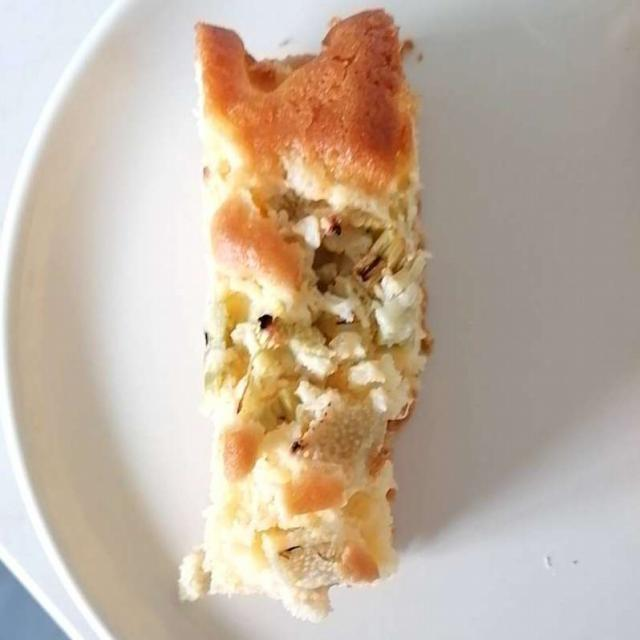cake: (198, 18, 425, 597)
